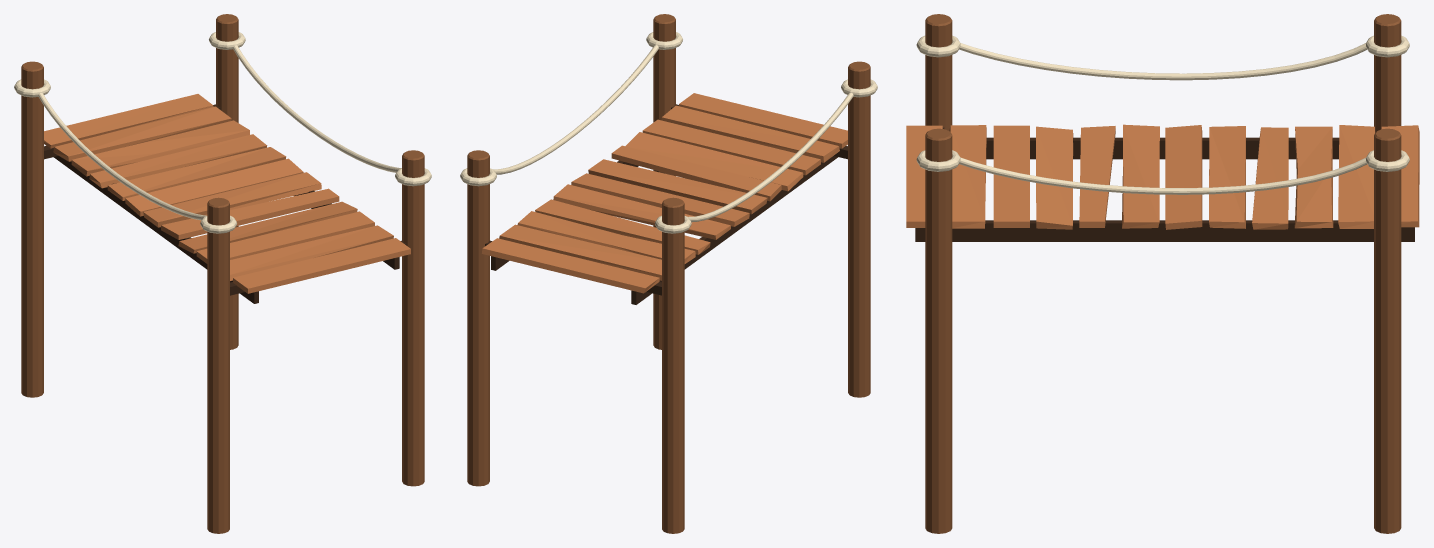
File: pontoon_cord.fbx
3 renders of one model, left to right at view 1: azimuth 30°, elevation 25°; view 2: azimuth 150°, elevation 25°; view 3: azimuth 270°, elevation 25°, orthographic. The views are drawn at different scales.
Visible parts, largest first — view 1: Box003; view 2: Box003; view 3: Box003.
Boxes of the visible parts, x1,y1,x2,y2 form: Box003: (14, 14, 431, 533); Box003: (460, 14, 877, 533); Box003: (906, 14, 1419, 533).
Bounding box in the file's own units: 278 × 383 × 452.
Materials: 1 (1 with a texture image).
